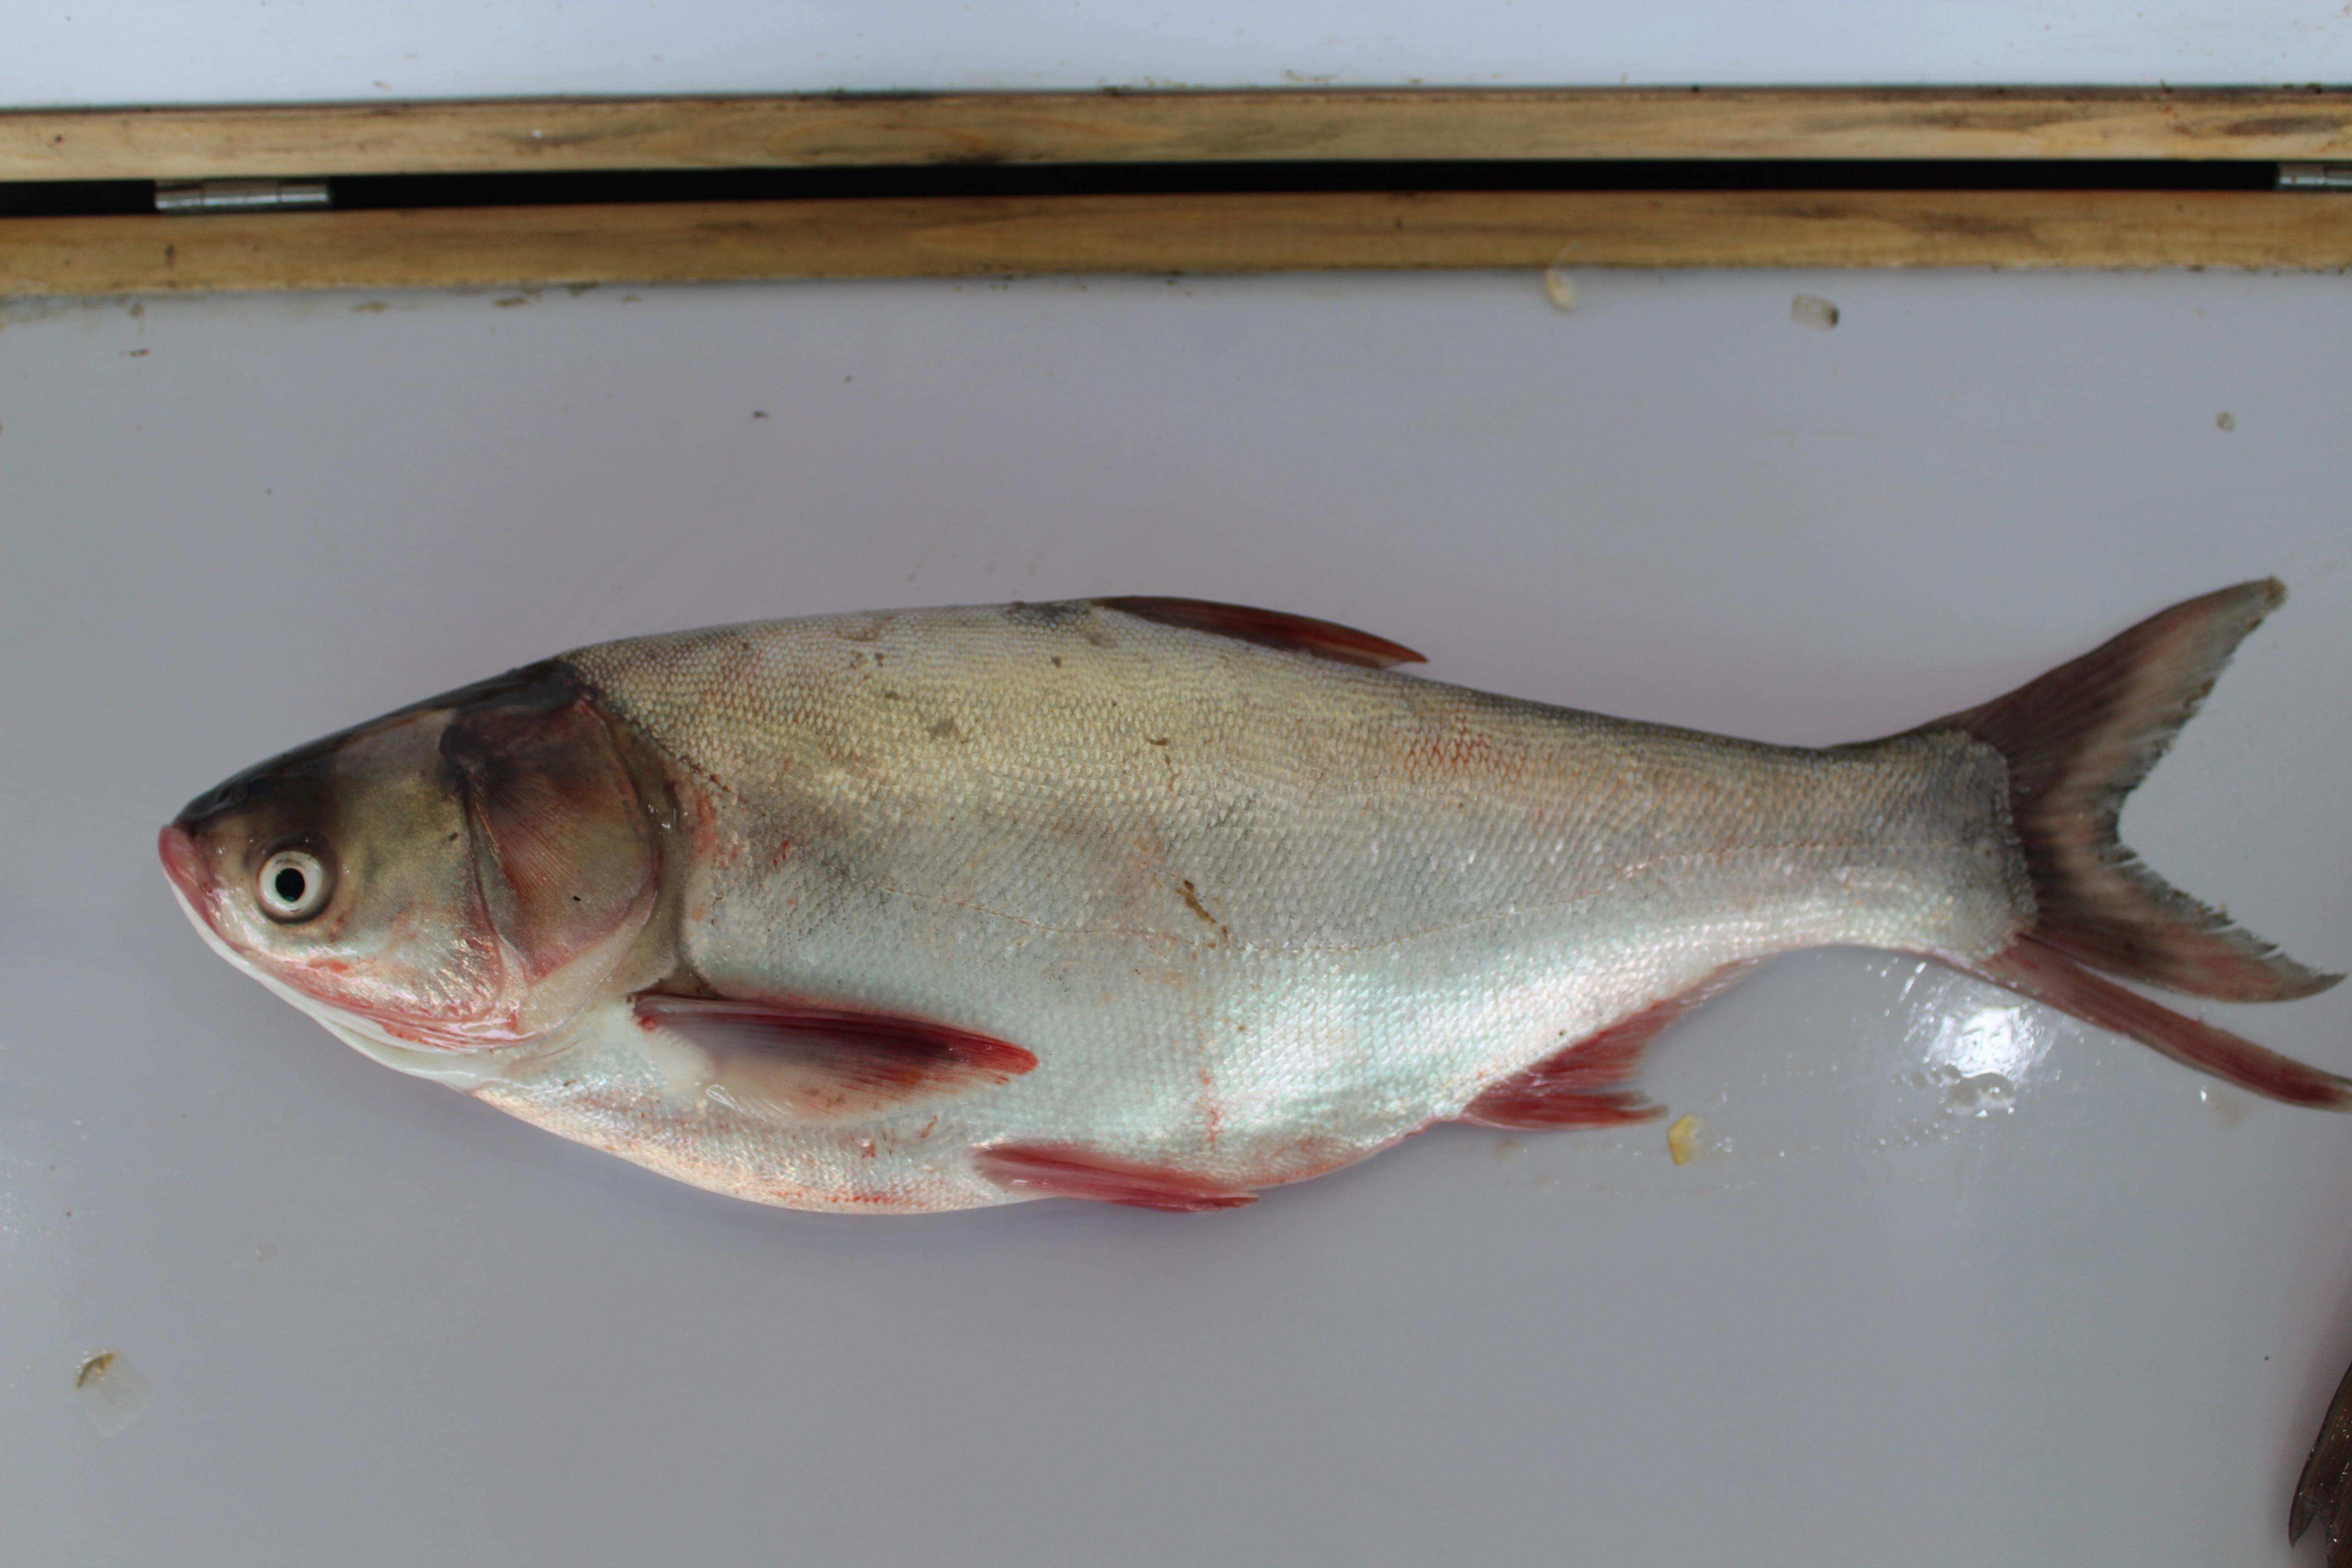Silver Carp: (164, 553, 2352, 1242)
